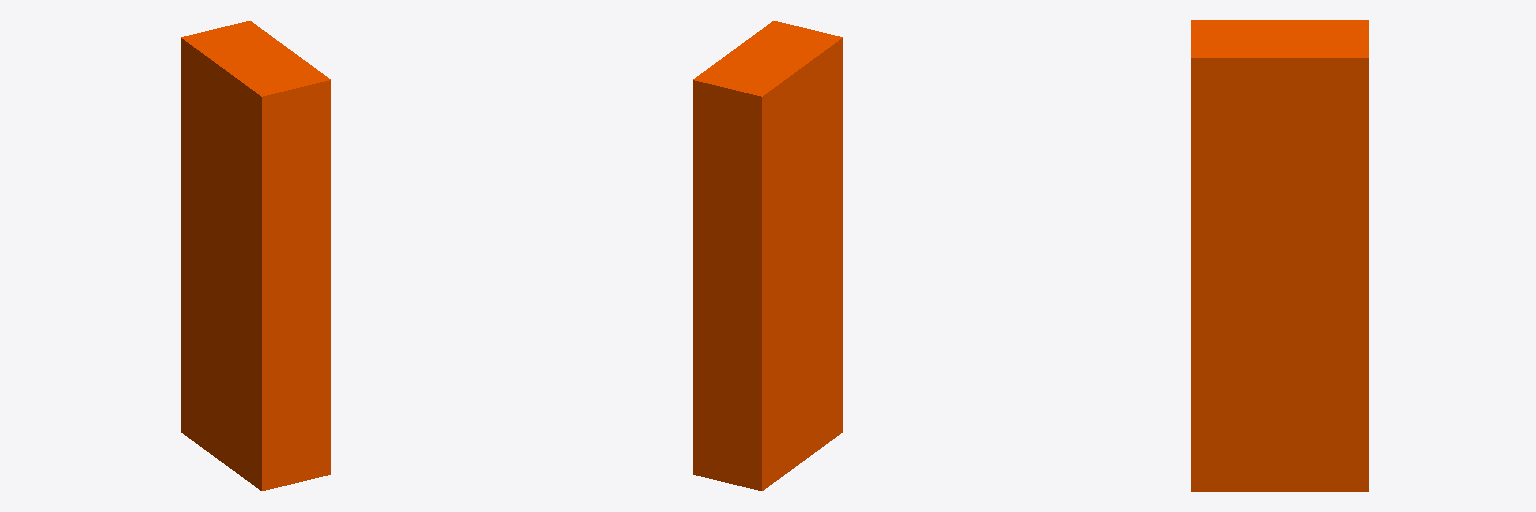
URDF robot description (orange_cup):
<?xml version="1.0"?>
<robot name="orange_cup">
<link name="orange_cup">
    <visual>
      <geometry>
        <mesh filename="package://laas_objects/res/obj/cookies.obj"/>
      </geometry>
      <origin rpy="1.57075 0 0" xyz="0 0 0"/>
      <material name="orange">
        <color rgba="1 .4 0 1"/>
      </material>
    </visual>
    <collision>
      <geometry>
        <mesh filename="package://laas_objects/res/obj/cookies.obj"/>
      </geometry>
      <origin rpy="1.57075 0 0" xyz="0 0 0"/>
      <contact_coefficients mu="1000.0" kp="0.00" kd="0.0"/>
    </collision>
    <inertial>
      <mass value="0.15"/>
      <inertia ixx="0.000378125" ixy="0.0" ixz="0.0" iyy="0.000378125" iyz="0.0" izz="0.000378125"/>
    </inertial>
</link>
</robot>

--- What the picture shows (computed from the rendered views, not written in the file) ---
Views: 3 orthographic renders of the robot side by side, from view 1: azimuth 30°, elevation 25°; view 2: azimuth 150°, elevation 25°; view 3: azimuth 270°, elevation 25°.
Model orange_cup with 1 links and 0 joints (none), rooted at orange_cup, posed every joint at zero.
Visible links, largest first — view 1: orange_cup; view 2: orange_cup; view 3: orange_cup.
Link boxes in pixels (bbox=[...]): orange_cup: bbox=[181, 21, 330, 490]; orange_cup: bbox=[693, 21, 842, 490]; orange_cup: bbox=[1191, 20, 1368, 491].
Size in the robot's own frame: 0.045 by 0.0911 by 0.2444 metres.
Meshes: 1 distinct files referenced, 1 mesh visuals loaded (1 OBJ).